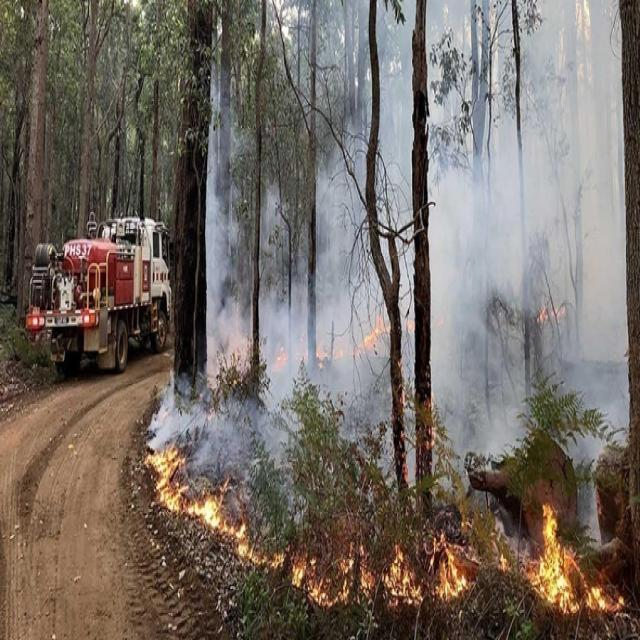Fire: (526, 495, 620, 620), (356, 544, 484, 612), (152, 446, 196, 524), (199, 491, 249, 554)
Smoke: (206, 10, 622, 458), (152, 362, 245, 466)
